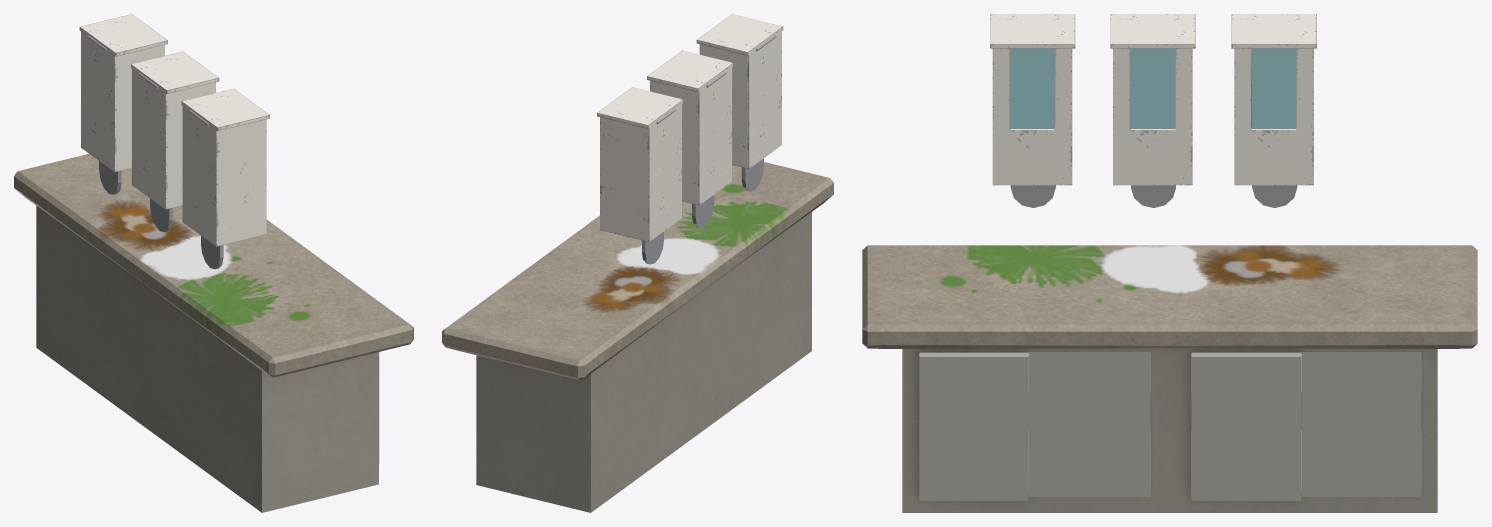
Rendered from ass_02_dispenser.fbx.
The picture shows the model from 3 angles, left to right: view 1: azimuth 30°, elevation 25°; view 2: azimuth 150°, elevation 25°; view 3: azimuth 270°, elevation 25°; orthographic projection. The views are drawn at different scales.
Visible parts, largest first — view 1: polySurface5, polySurface41, polySurface7, polySurface26, polySurface40; view 2: polySurface5, polySurface41, polySurface7, polySurface40, polySurface26; view 3: polySurface5, polySurface41, slide_door_1_4, slide_door_1_3, slide_door_1_2, slide_door_1_1, polySurface7, polySurface26, polySurface40.
Part boxes in pixels (box(x1,y1,x2,y2)): polySurface5: box(14, 154, 413, 512); polySurface41: box(79, 14, 269, 246); polySurface7: box(201, 236, 223, 269); polySurface26: box(99, 161, 121, 194); polySurface40: box(150, 198, 172, 231); polySurface5: box(442, 162, 833, 512); polySurface41: box(597, 14, 783, 241); polySurface7: box(741, 158, 763, 191); polySurface40: box(692, 195, 714, 227); polySurface26: box(642, 231, 663, 264); polySurface5: box(862, 245, 1477, 512); polySurface41: box(990, 14, 1316, 185); slide_door_1_4: box(1029, 352, 1150, 496); slide_door_1_3: box(1302, 352, 1420, 496); slide_door_1_2: box(1191, 352, 1301, 500); slide_door_1_1: box(919, 352, 1028, 500); polySurface7: box(1010, 185, 1055, 207); polySurface26: box(1252, 185, 1297, 207); polySurface40: box(1131, 185, 1175, 207).
Size of the model in its own units: 92.48 by 218 by 284.
9 materials, 9 textured.
